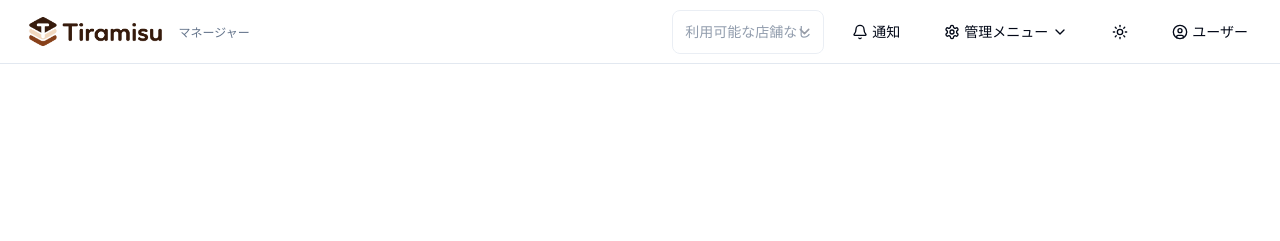
Test: Admin navigation alignment › Header は manager の管理メニューを担当エリア管理導線だけに限定する
Click the button "管理メニュー" at point(1006, 32), box [928,10,1084,54]
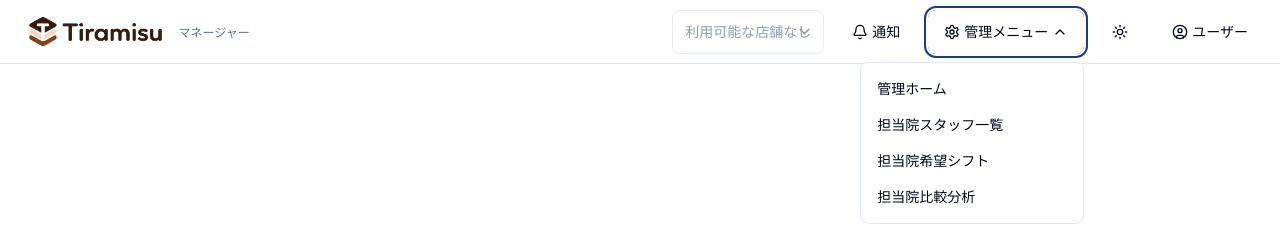
Now the link "管理ホーム" is shown, box [877,80,947,96]
Now the link "担当院スタッフ一覧" is shown, box [877,116,1003,132]
Now the link "担当院希望シフト" is shown, box [877,152,989,168]
